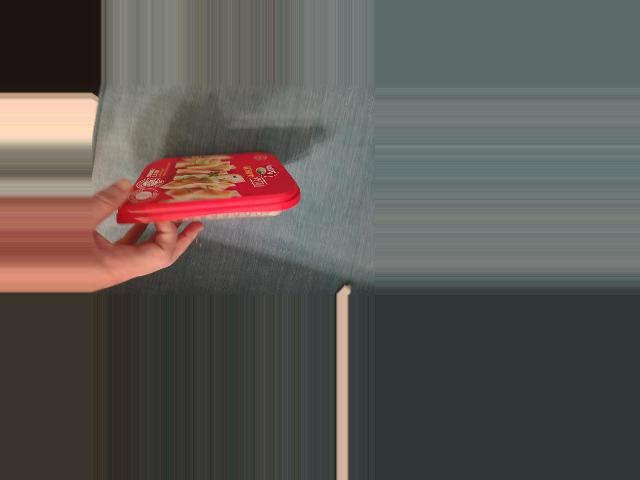cheese: (118, 152, 295, 237)
